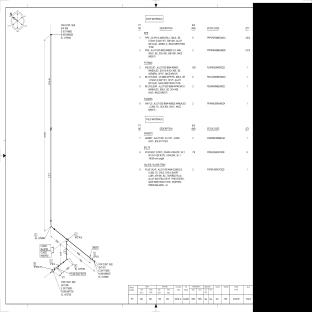elbow: (63, 254, 67, 263), (51, 221, 54, 229)
flange: (56, 266, 59, 269)
support: (89, 255, 91, 260)
valve: (52, 267, 57, 272)
weld: (50, 220, 52, 222), (50, 34, 52, 36), (66, 253, 67, 255), (54, 228, 55, 230), (63, 262, 64, 263)
